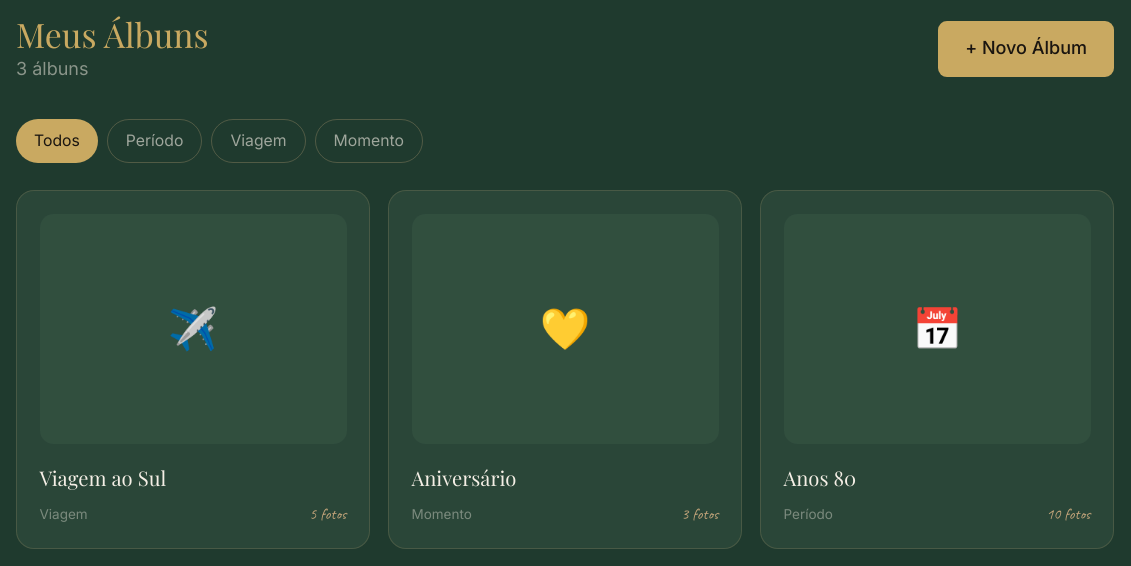
Test: AlbumListPage › filters albums by type
Expected: the heading "Viagem ao Sul" is shown, [40,464,166,491]
// Filter to show only 'viagem' — use button in filter bar (not album type label)
What coordinates should you click on to do the following:
click the button "Viagem"
I would click on:
 (258, 141)
Its box is [211,119,306,163].
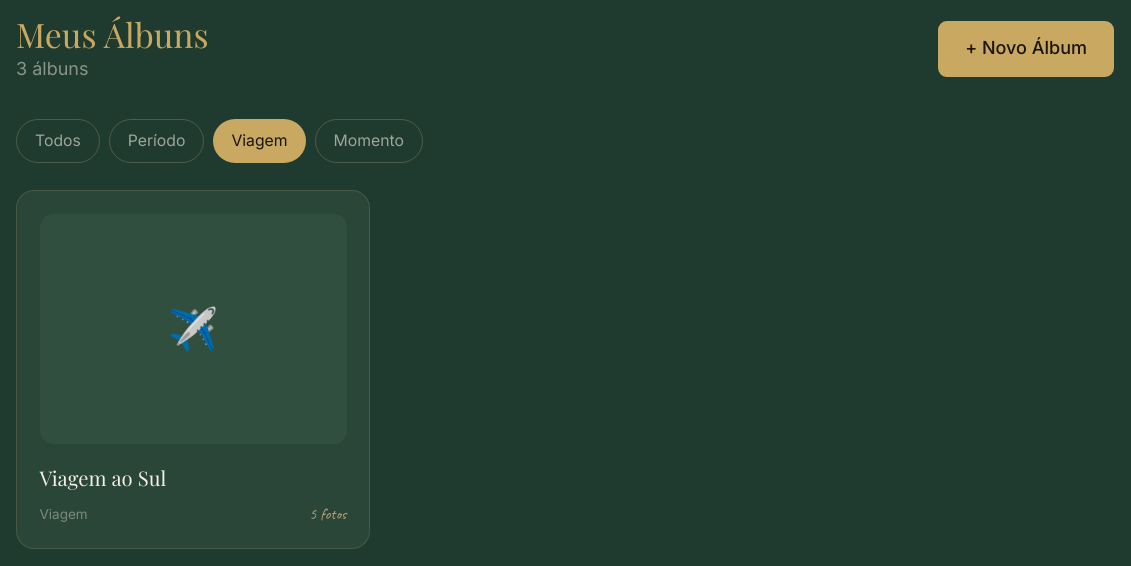
Expected: the heading "Viagem ao Sul" is shown, [40,464,166,491]
Expected: the link "Aniversário" is gone
Expected: the link "Anos 80" is gone
